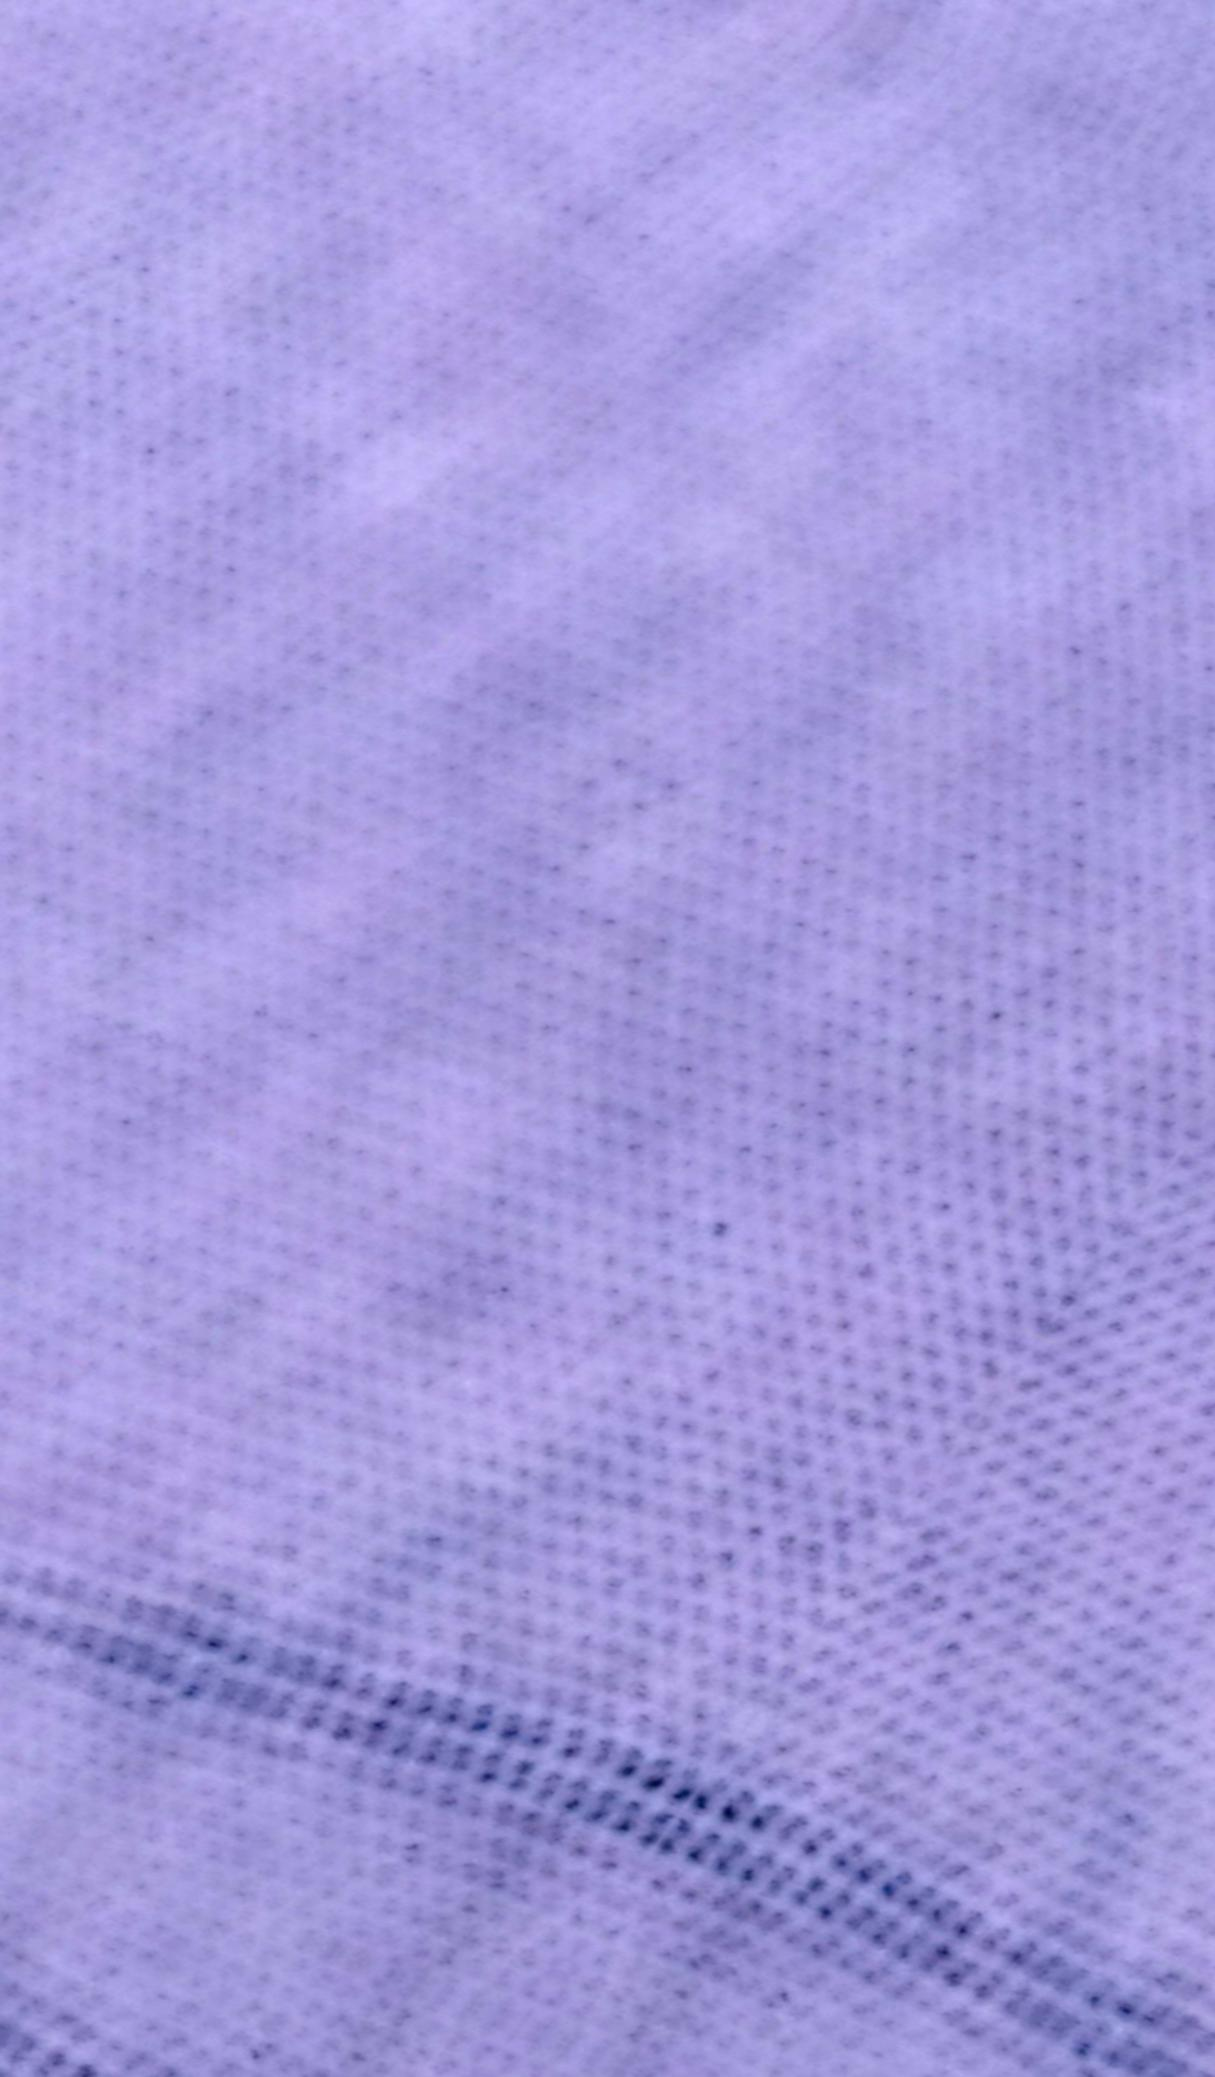slub: (0, 1496, 1211, 2074)
